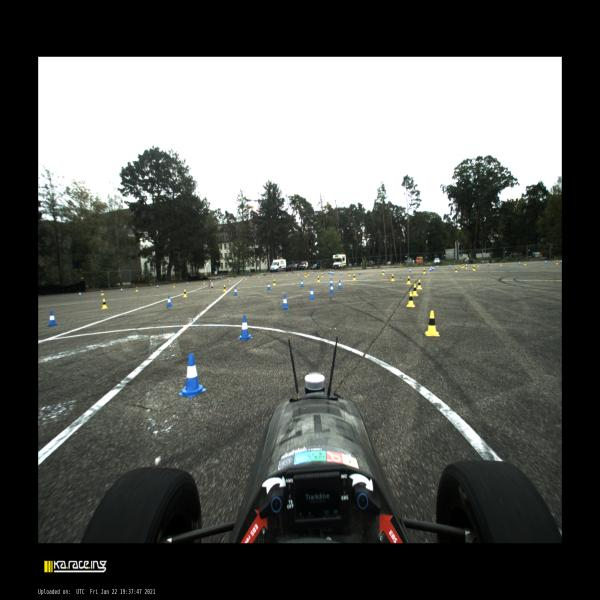blue_cone: (179, 353, 206, 397), (238, 315, 252, 340), (48, 311, 58, 326), (281, 294, 290, 309), (309, 288, 315, 300), (166, 295, 172, 307), (233, 287, 238, 296), (337, 280, 342, 289), (330, 284, 334, 294), (300, 279, 304, 287), (267, 282, 271, 290), (329, 278, 333, 286), (120, 287, 123, 292), (329, 270, 332, 274), (409, 267, 411, 273), (429, 267, 432, 271), (544, 260, 547, 264), (332, 270, 334, 275), (79, 291, 81, 296), (331, 270, 333, 274), (328, 270, 330, 274), (340, 271, 342, 275), (359, 270, 361, 274), (383, 269, 385, 273), (432, 267, 434, 271), (519, 260, 521, 264), (186, 281, 188, 285), (436, 265, 438, 269), (488, 262, 490, 266), (560, 260, 562, 263), (243, 276, 245, 279), (273, 274, 275, 277), (324, 270, 325, 274), (431, 266, 432, 270), (449, 264, 450, 268), (466, 264, 468, 266), (300, 272, 302, 274), (157, 285, 158, 288), (228, 278, 229, 281), (257, 275, 258, 278), (289, 272, 290, 275), (312, 271, 313, 274)
yellow_cone: (425, 311, 440, 336), (406, 292, 416, 308), (412, 284, 418, 296), (101, 299, 108, 309), (406, 275, 412, 285), (417, 280, 422, 290), (183, 289, 188, 298), (352, 274, 357, 281), (223, 284, 227, 292), (390, 274, 394, 281), (272, 280, 276, 286), (317, 276, 320, 283), (348, 271, 351, 277), (101, 290, 104, 296), (473, 265, 476, 271), (455, 267, 458, 272), (136, 286, 138, 292), (382, 269, 384, 275), (423, 268, 425, 274), (460, 264, 463, 268), (472, 264, 474, 270), (499, 262, 502, 266), (462, 263, 464, 268), (173, 283, 175, 287), (203, 280, 205, 284), (305, 273, 307, 277), (307, 272, 309, 276), (321, 273, 323, 277), (465, 265, 467, 269), (477, 263, 479, 267), (524, 261, 526, 265), (556, 260, 558, 264), (258, 275, 260, 278), (245, 276, 247, 279), (298, 272, 299, 276), (287, 273, 288, 276), (272, 274, 273, 277), (229, 278, 230, 281)
